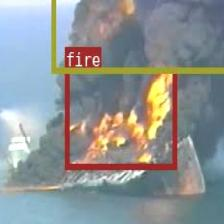fire: (64, 68, 176, 168)
smoke: (51, 0, 224, 71)
